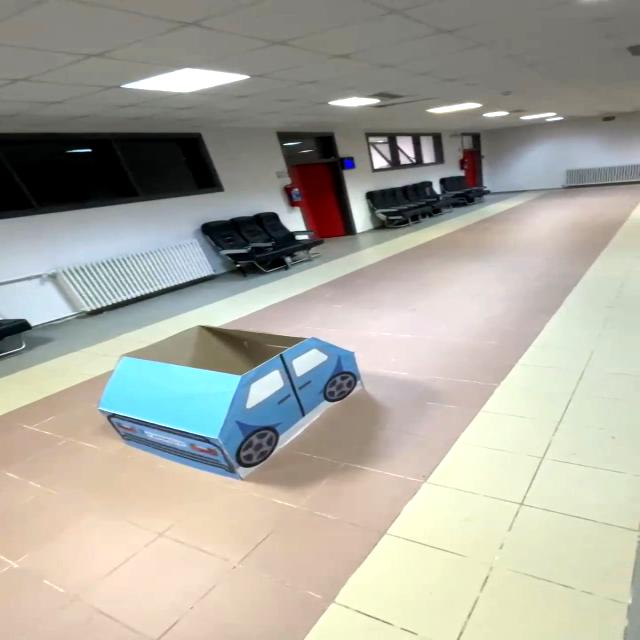blue_car: (86, 314, 386, 491)
